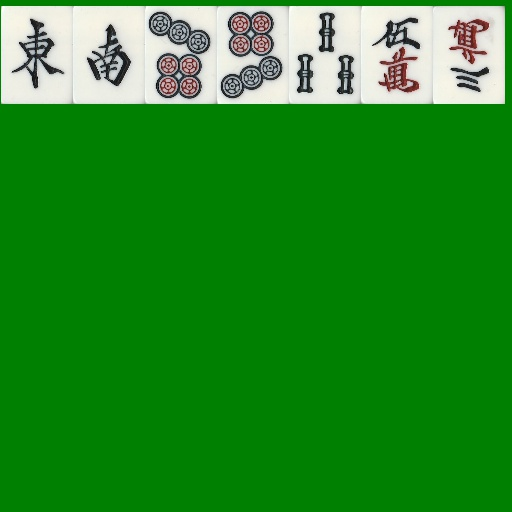3m: (433, 6, 505, 104)
3s: (289, 6, 361, 104)
5m: (361, 6, 433, 104)
7p: (145, 6, 217, 104), (217, 6, 289, 104)
east: (1, 6, 73, 104)
south: (73, 6, 145, 104)
